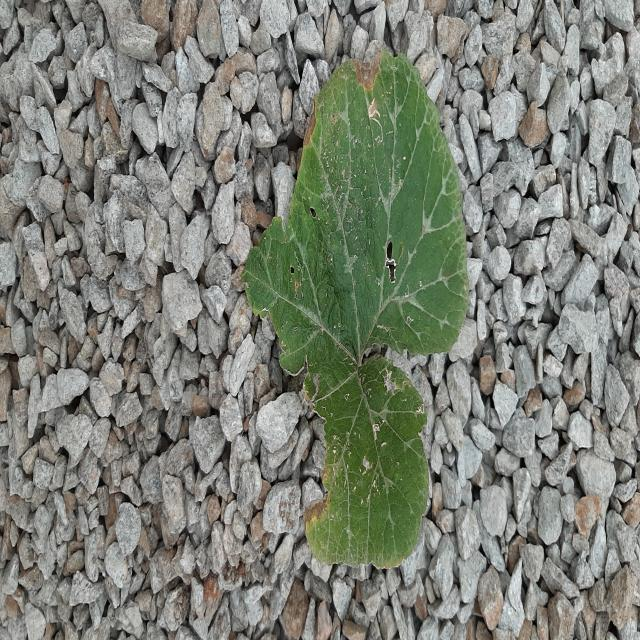pumpkin: (244, 49, 469, 566)
